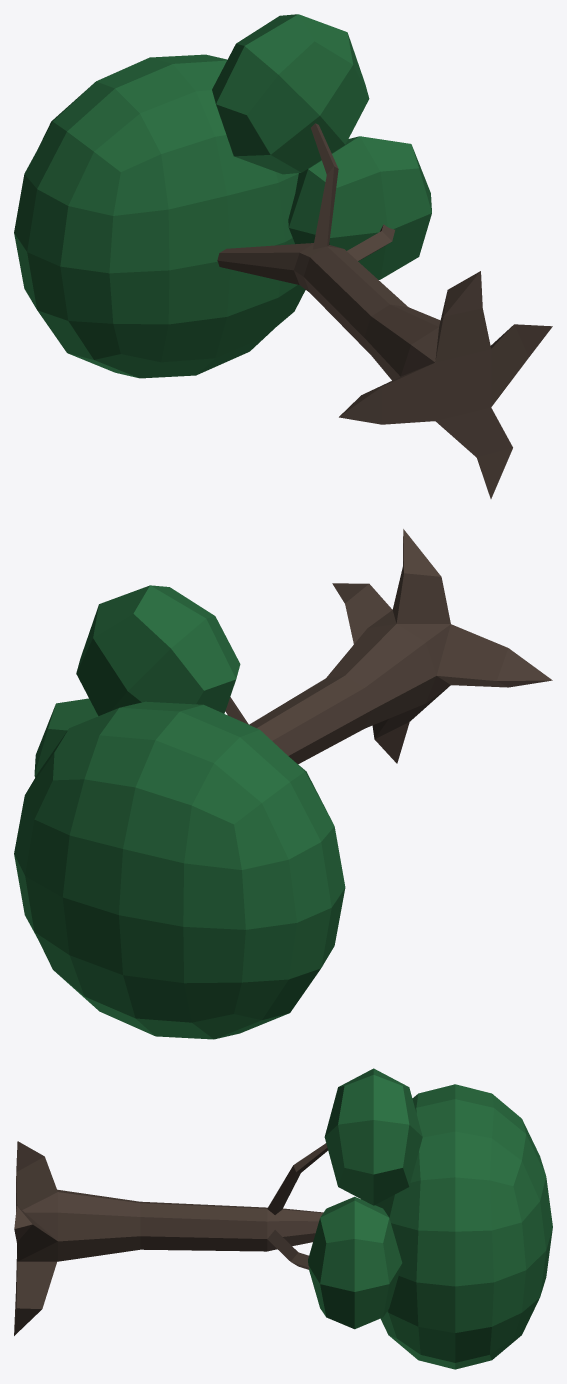
The model's file is tree_5_disturb.fbx.
3 views of the same model, one above another, from view 1: azimuth 30°, elevation 25°; view 2: azimuth 150°, elevation 25°; view 3: azimuth 270°, elevation 25° (orthographic). The views are drawn at different scales.
Parts seen in each view (by area): view 1: Cube; view 2: Cube; view 3: Cube.
Boxes of the visible parts, bbox=[...] form: Cube: bbox=[14, 14, 552, 498]; Cube: bbox=[14, 529, 552, 1039]; Cube: bbox=[14, 1068, 552, 1369].
Size of the model in its own units: 81950 by 84662 by 132794.
